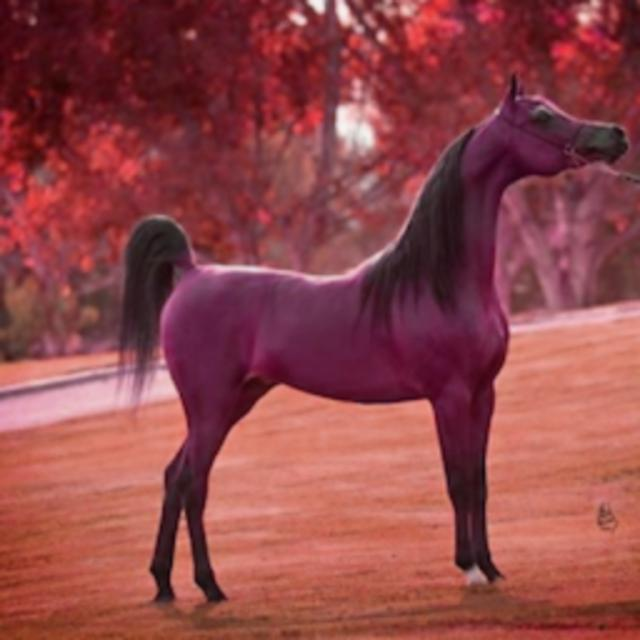Horse: (102, 68, 636, 610)
